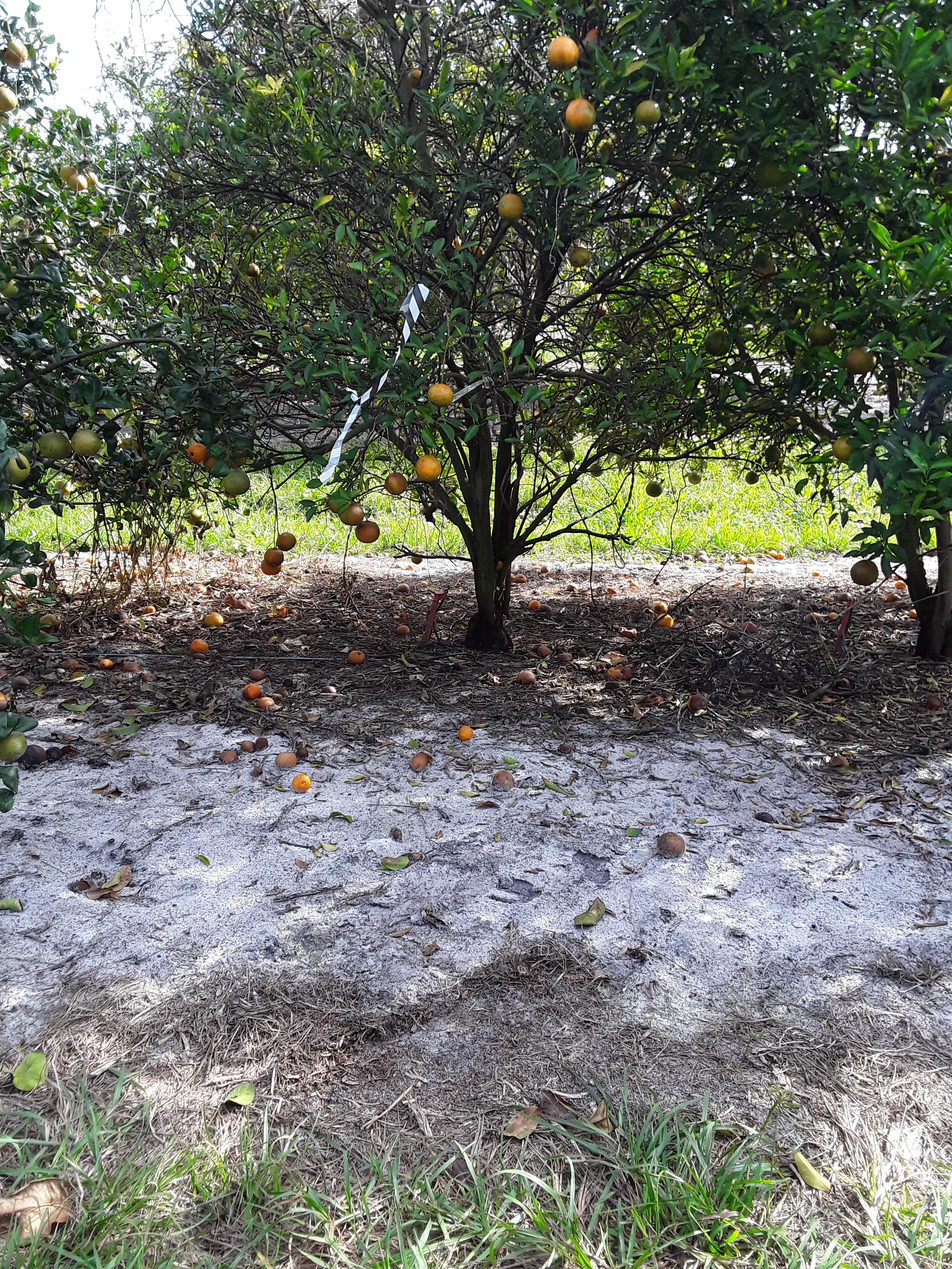fruit_on_ground: (757, 154, 791, 192), (549, 36, 581, 74), (565, 98, 594, 135), (702, 326, 735, 357), (42, 433, 72, 467), (75, 428, 103, 464), (843, 346, 872, 380), (500, 192, 527, 227), (4, 452, 32, 485), (201, 453, 235, 480), (849, 561, 876, 593), (56, 162, 84, 192), (1, 41, 27, 73), (831, 436, 857, 467), (430, 383, 456, 412), (416, 450, 440, 481), (813, 316, 837, 347), (49, 477, 77, 503), (2, 736, 28, 764), (634, 101, 659, 130), (225, 470, 249, 500), (336, 502, 360, 531), (359, 519, 383, 548), (65, 173, 95, 196), (324, 489, 352, 513), (571, 239, 594, 266), (385, 472, 406, 500), (753, 248, 774, 275), (0, 90, 20, 117), (186, 443, 207, 468), (4, 275, 23, 302), (237, 220, 260, 242), (275, 527, 296, 551), (685, 464, 705, 489), (259, 558, 284, 578), (586, 20, 606, 45), (264, 545, 285, 568), (664, 197, 688, 217), (585, 460, 607, 481), (410, 66, 427, 91), (741, 465, 761, 486), (39, 233, 58, 255), (95, 219, 113, 242), (243, 258, 262, 279), (474, 240, 492, 262), (84, 167, 102, 188), (644, 479, 660, 501), (558, 444, 577, 462), (188, 507, 204, 525)
fruit_on_tree: (14, 742, 49, 770), (663, 833, 688, 863), (35, 610, 62, 633), (345, 647, 369, 670), (612, 657, 634, 682), (217, 745, 240, 768), (652, 609, 677, 629), (646, 598, 672, 617), (606, 665, 626, 689), (10, 673, 31, 695), (235, 737, 256, 759), (740, 618, 761, 639), (928, 693, 947, 716), (252, 696, 275, 715), (688, 694, 707, 717), (243, 684, 261, 708), (405, 547, 425, 568), (295, 776, 314, 798), (554, 650, 577, 668), (318, 683, 338, 703), (206, 605, 223, 628), (410, 748, 427, 771), (494, 764, 511, 787), (254, 733, 272, 754), (552, 739, 574, 756), (691, 553, 710, 572), (891, 579, 911, 597), (271, 685, 295, 700), (828, 608, 845, 629), (533, 639, 551, 658), (888, 583, 905, 603), (278, 751, 295, 771), (139, 671, 161, 686), (689, 545, 707, 563), (395, 579, 413, 597), (513, 567, 532, 584), (880, 592, 900, 608), (142, 600, 158, 620), (802, 610, 822, 626), (395, 615, 411, 635), (121, 660, 141, 676), (521, 669, 537, 689), (94, 654, 115, 669), (745, 556, 763, 573), (247, 666, 265, 682), (275, 601, 290, 620), (458, 723, 472, 742), (391, 823, 405, 842), (389, 829, 403, 848), (775, 552, 789, 570), (112, 568, 130, 582), (192, 641, 205, 660), (762, 547, 778, 562), (618, 572, 638, 584), (598, 587, 619, 598), (117, 542, 134, 555), (536, 565, 556, 576), (527, 593, 540, 608), (527, 599, 540, 614), (625, 576, 639, 589), (906, 604, 915, 623), (110, 543, 121, 553)
